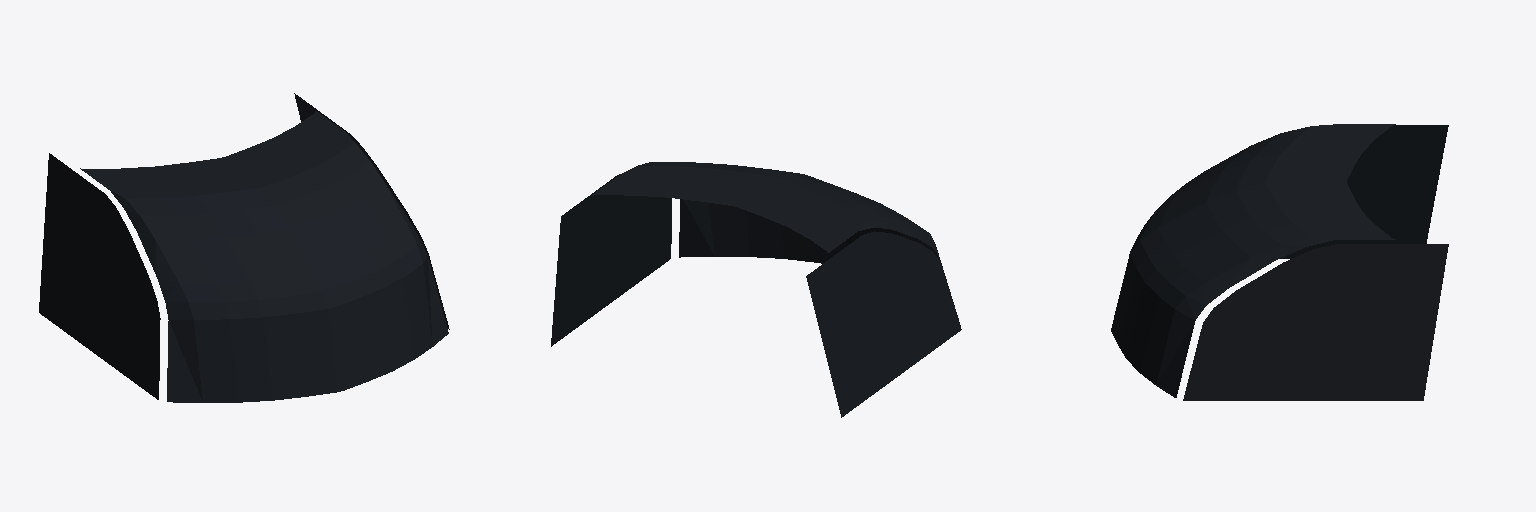
Rendered from windows.obj.
The picture shows the model from 3 angles: view 1: azimuth 30°, elevation 25°; view 2: azimuth 150°, elevation 25°; view 3: azimuth 270°, elevation 25°; orthographic projection.
Parts seen in each view (by area): view 1: group_0_ID3, group_4_ID417, group_1_ID12, group_3_ID410; view 2: group_1_ID12, group_3_ID410, group_4_ID417, group_0_ID3; view 3: group_3_ID410, group_4_ID417, group_0_ID3, group_1_ID12.
Part boxes in pixels (x1,y1,x2,y2): group_0_ID3: (80, 158, 339, 402); group_4_ID417: (222, 111, 448, 391); group_1_ID12: (39, 153, 160, 399); group_3_ID410: (294, 93, 449, 329); group_1_ID12: (806, 231, 961, 417); group_3_ID410: (551, 174, 671, 346); group_4_ID417: (592, 162, 848, 263); group_0_ID3: (735, 173, 960, 325); group_3_ID410: (1183, 244, 1448, 400); group_4_ID417: (1111, 182, 1395, 397); group_0_ID3: (1114, 124, 1395, 315); group_1_ID12: (1280, 125, 1448, 258).
Size of the model in its own units: 1.25 by 0.61 by 1.26.